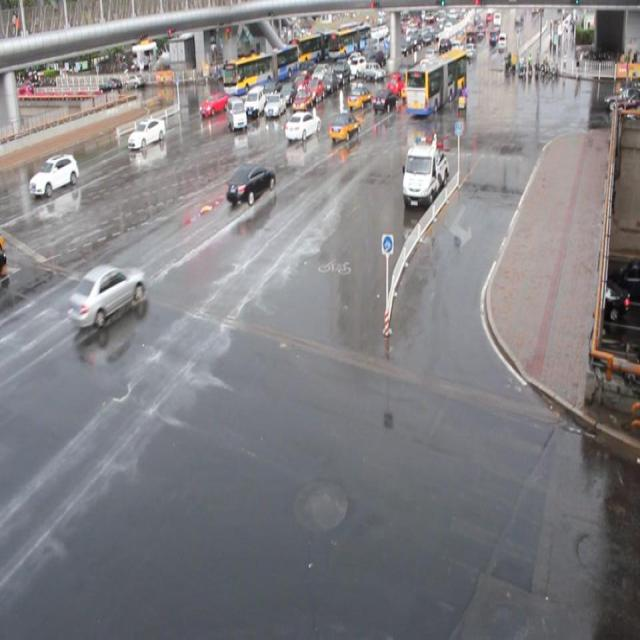bus: (402, 139, 449, 207)
car: (69, 263, 147, 325), (225, 162, 276, 204), (30, 153, 80, 195), (128, 116, 165, 149), (284, 110, 321, 142), (328, 108, 361, 142), (199, 90, 228, 116), (346, 82, 373, 108), (371, 86, 397, 112), (292, 88, 313, 115), (265, 93, 287, 118), (266, 75, 288, 98), (304, 78, 324, 102), (386, 72, 405, 97), (400, 76, 419, 101), (279, 81, 298, 104), (291, 73, 311, 94)
truck: (245, 86, 268, 118), (226, 95, 246, 131)
van: (222, 44, 299, 98), (404, 51, 466, 115)
